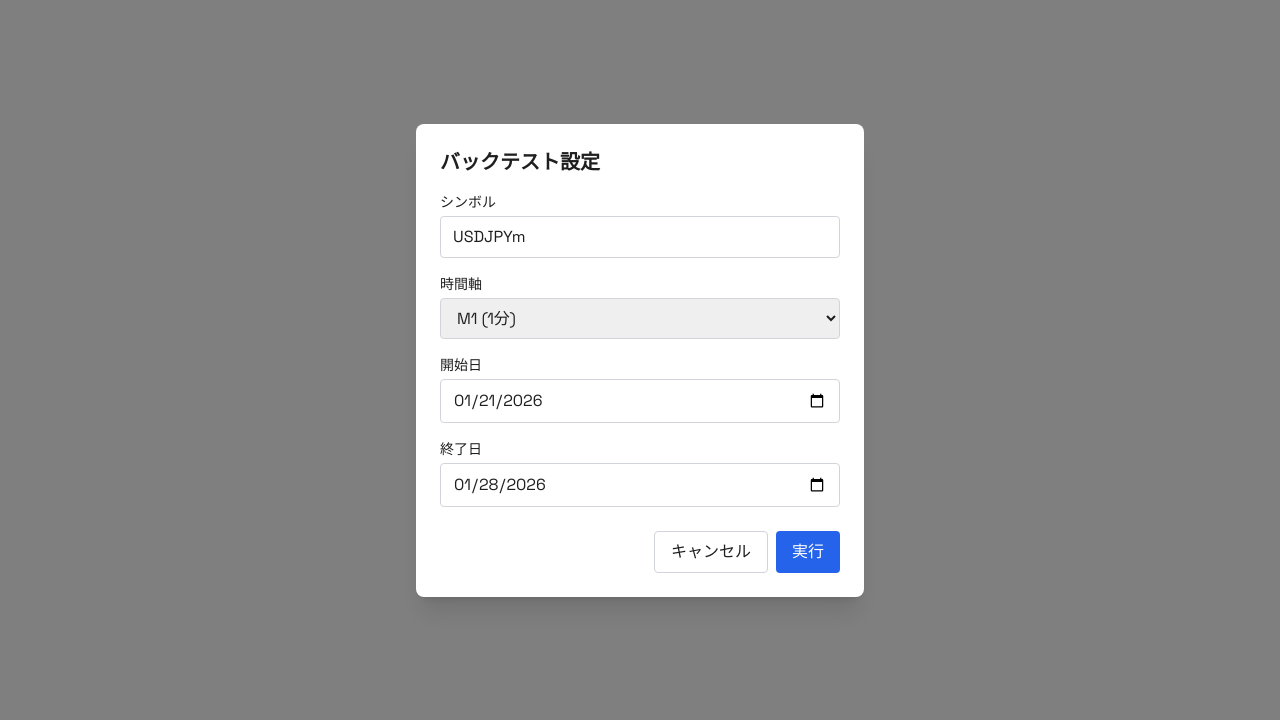
Test case: BacktestConfigDialog › User Interactions › should display validation errors on invalid submit
# Clear symbol to make it invalid
Clear the field labelled "シンボル" at (640, 236), box [440,216,840,258]
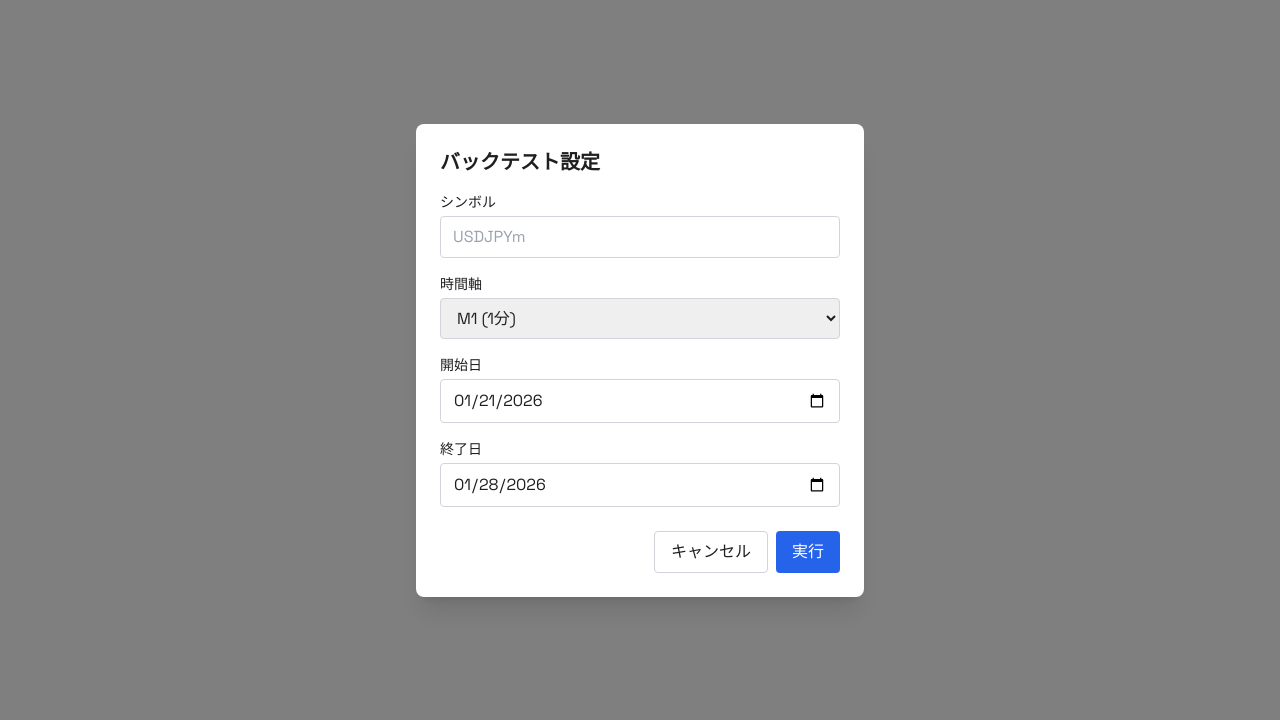
Click the button "実行" at (808, 552), box [776,530,840,572]
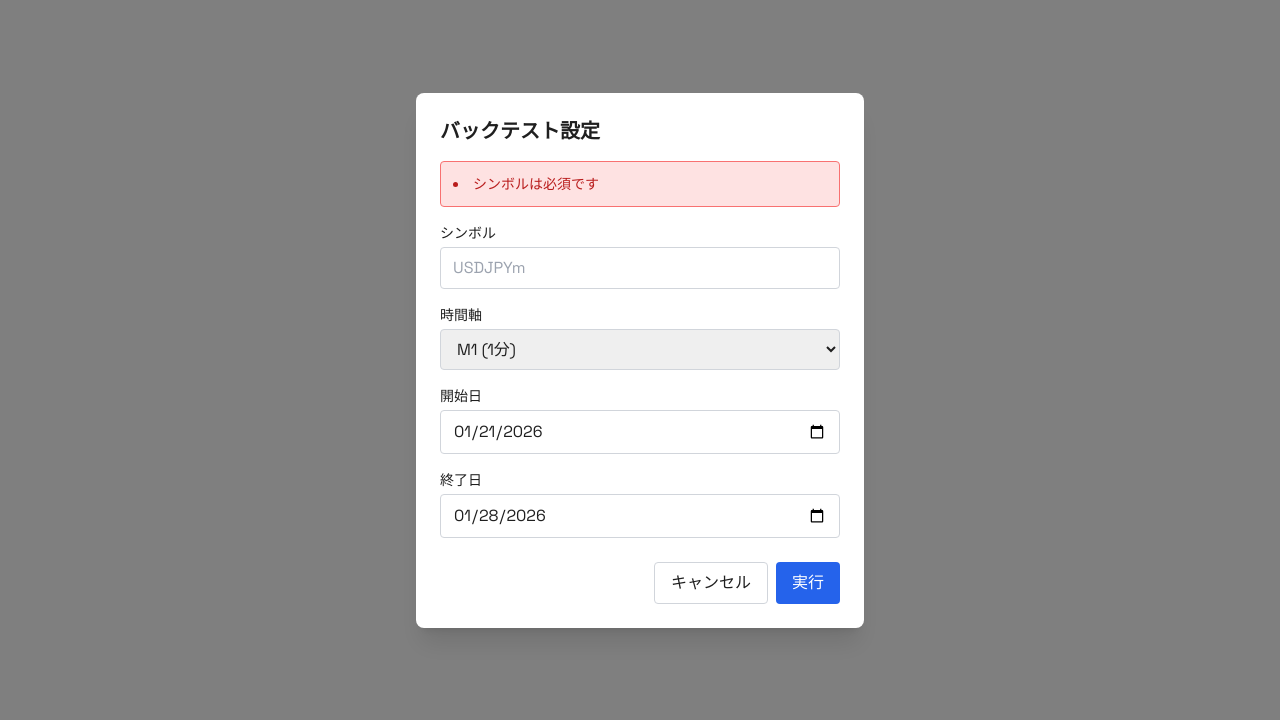
Check: the list item "シンボルは必須です" is shown, box [473,174,599,192]
